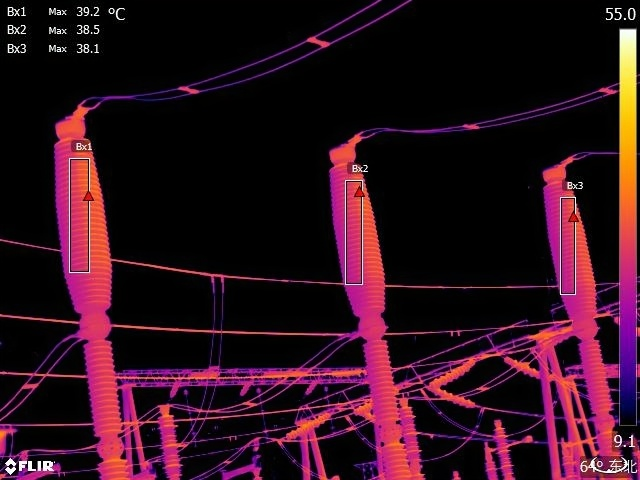circuit breaker: (49, 112, 128, 464), (323, 140, 405, 463), (536, 161, 618, 460)
clamp: (205, 267, 231, 291)
insulator: (427, 356, 476, 388), (281, 413, 331, 442), (429, 385, 480, 412), (503, 357, 537, 378)
post insulator: (157, 398, 182, 480), (492, 416, 515, 478), (480, 445, 495, 480)
